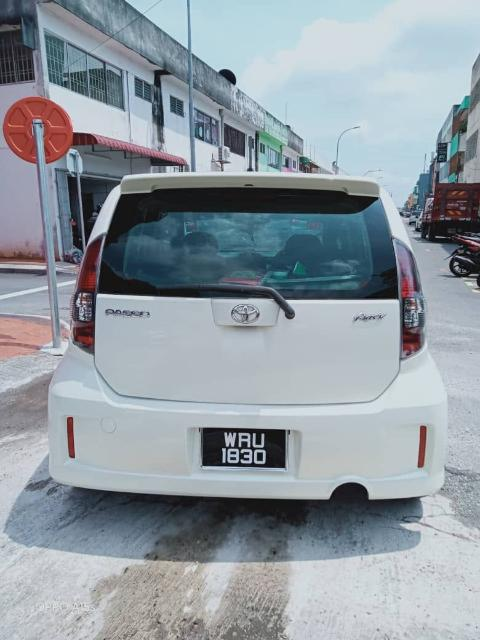License_Plate: (202, 425, 283, 470)
car: (49, 169, 449, 515)
